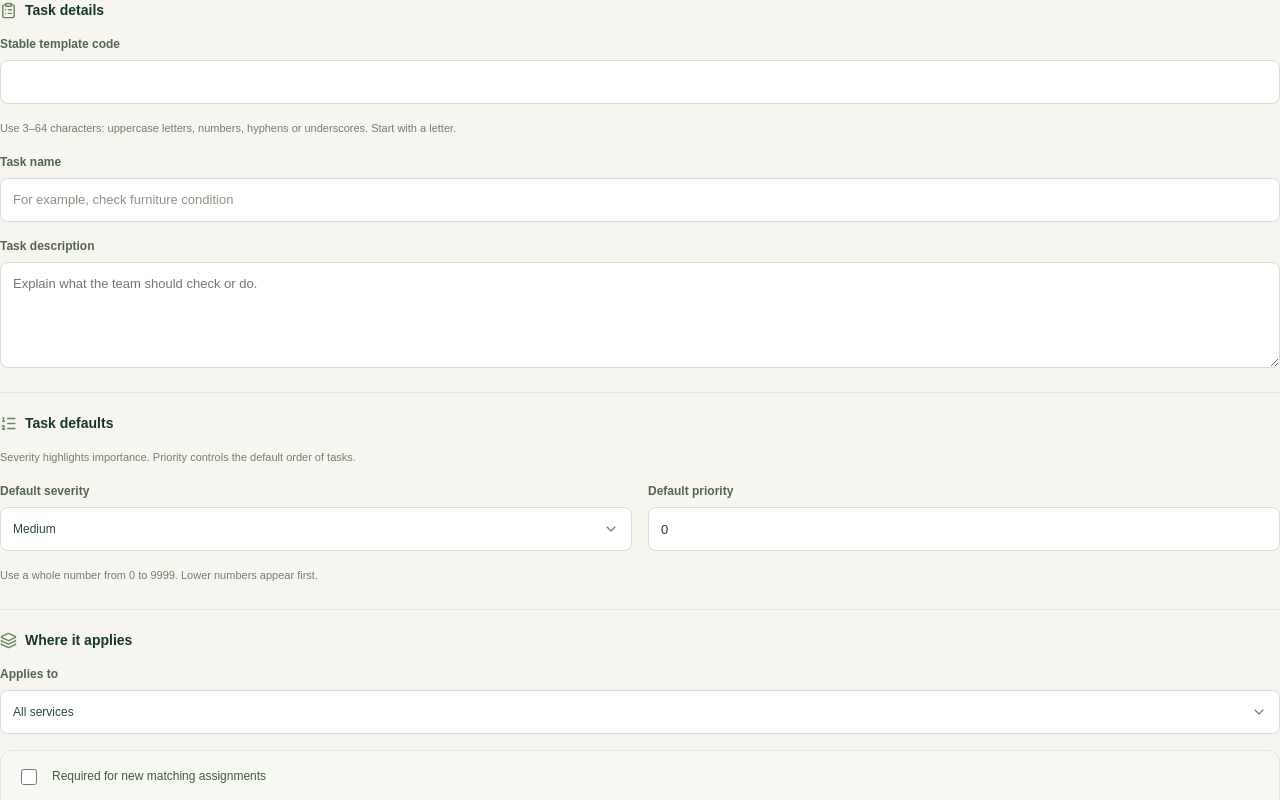
Task template form › creates the same public payload, confirms the canonical record and resets the creation form
Type "STAIR_CHECK" into the field labelled "Stable template code" at (640, 82), box [0, 60, 1279, 104]
Type "  Check stairs  " into the field labelled "Task name" at (640, 200), box [0, 178, 1279, 222]
Type "  Inspect the access route  " into the text box labelled "Task description" at (640, 315), box [0, 262, 1279, 368]
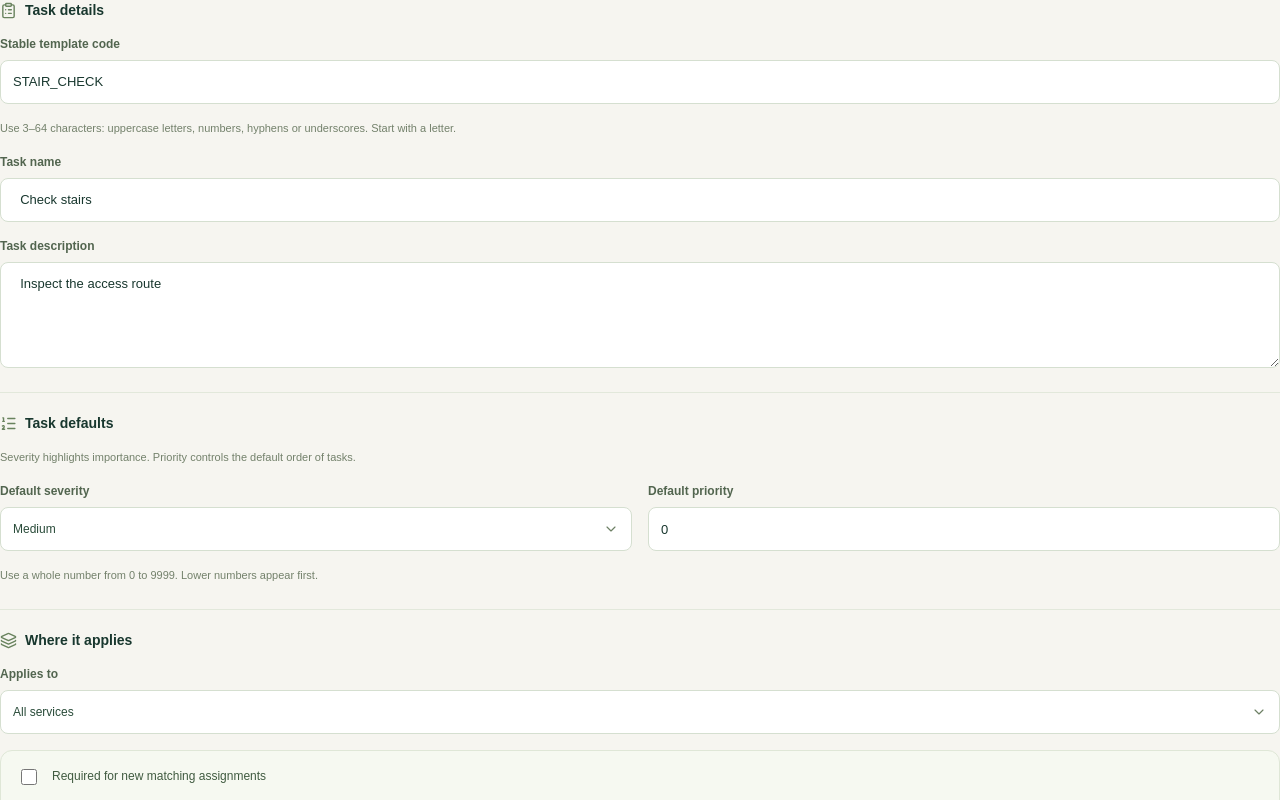
Select "Delivery only" in the dropdown labelled "Applies to" at (640, 712), box [0, 690, 1279, 734]
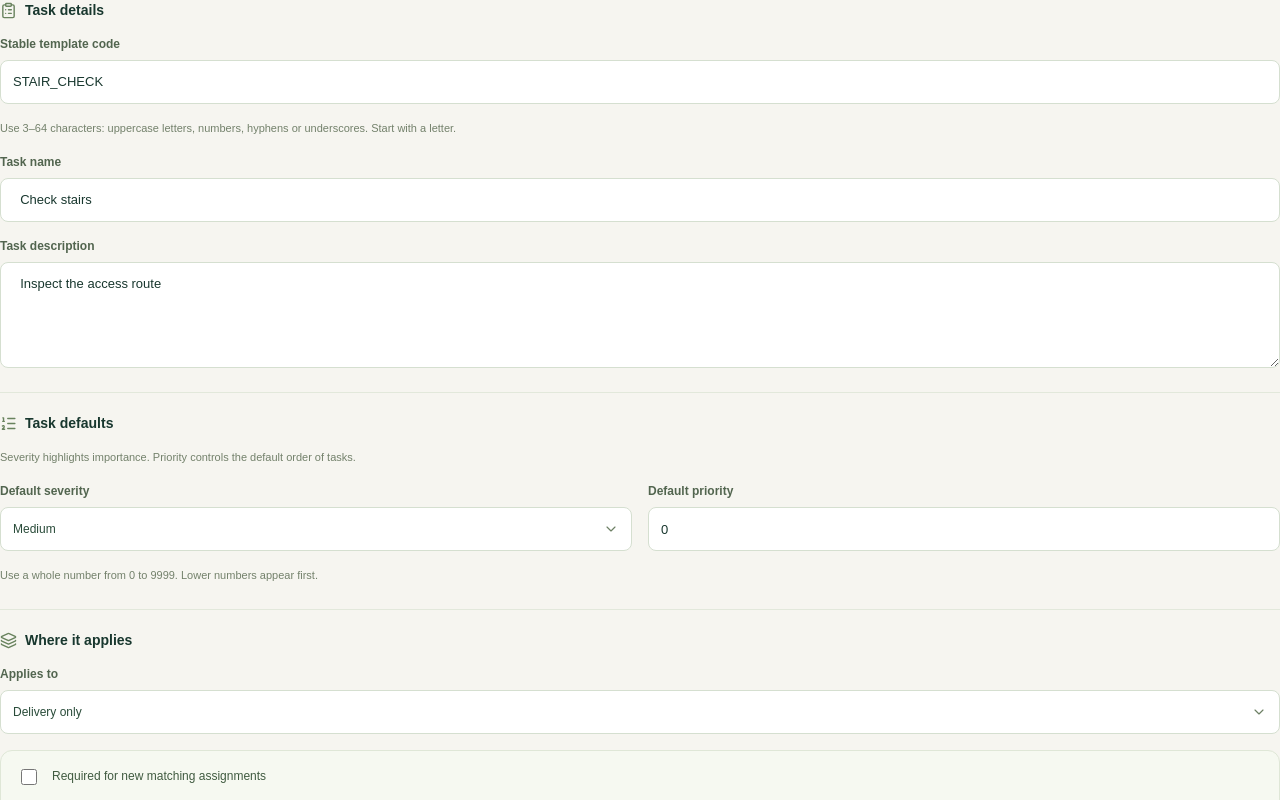
Select "High" in the dropdown labelled "Default severity" at (316, 529), box [0, 507, 632, 551]
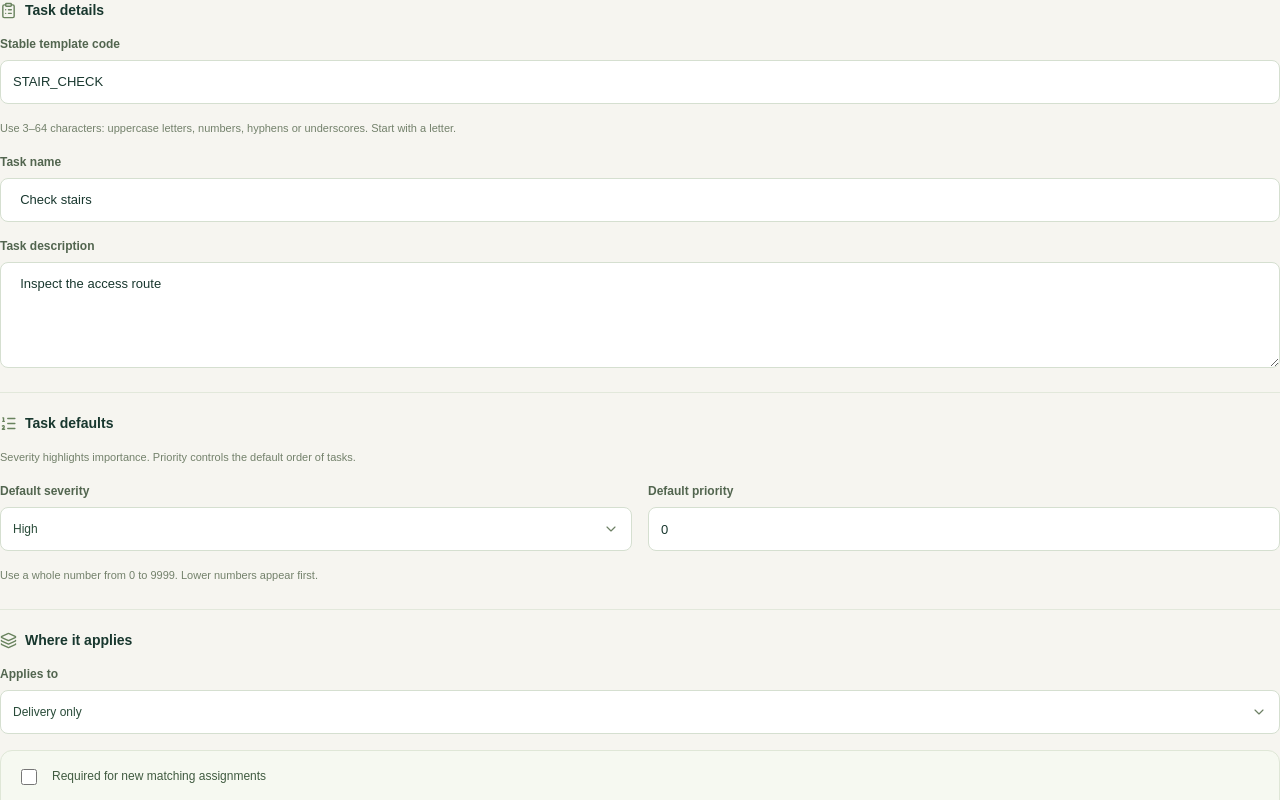
Replace the text in the number field labelled "Default priority" with "7" at (964, 529), box [648, 507, 1279, 551]
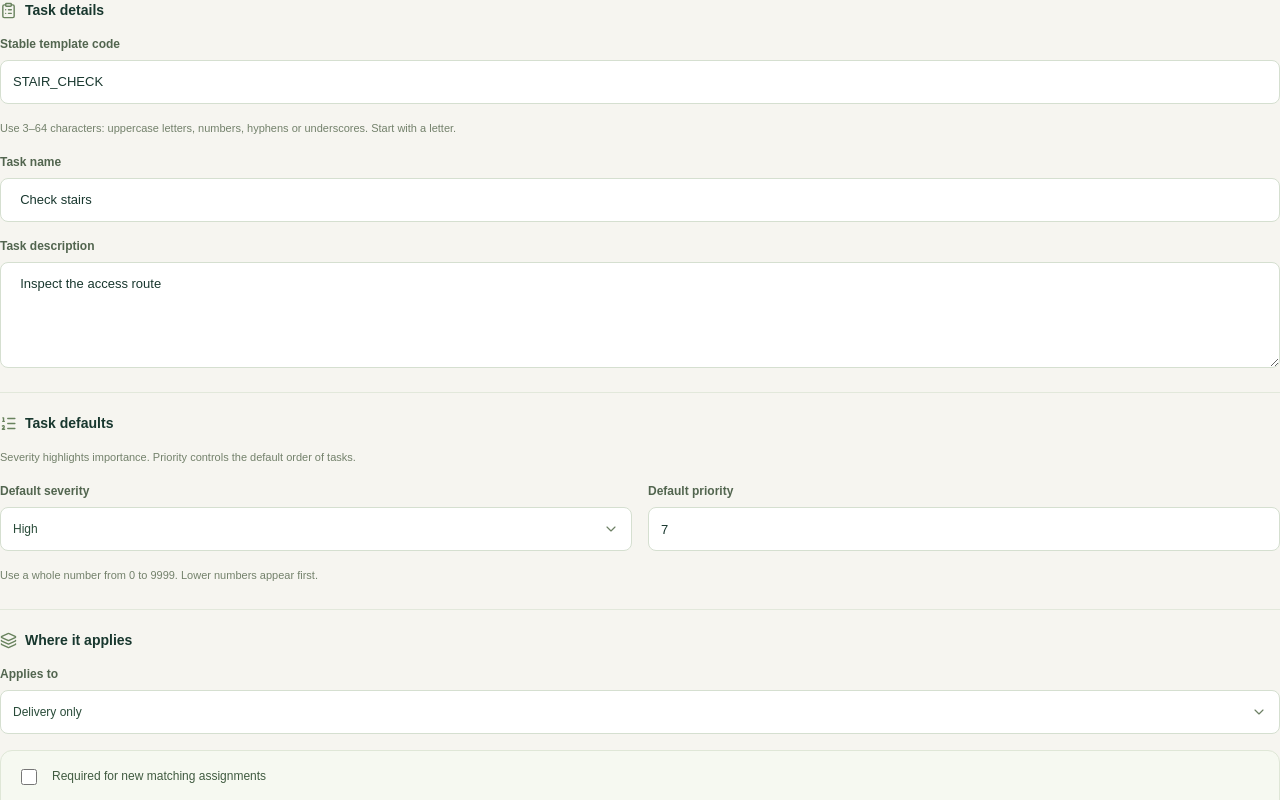
Click the checkbox labelled "Required for new matching assignments" at (29, 777), box [21, 769, 37, 785]
(page scrolled)
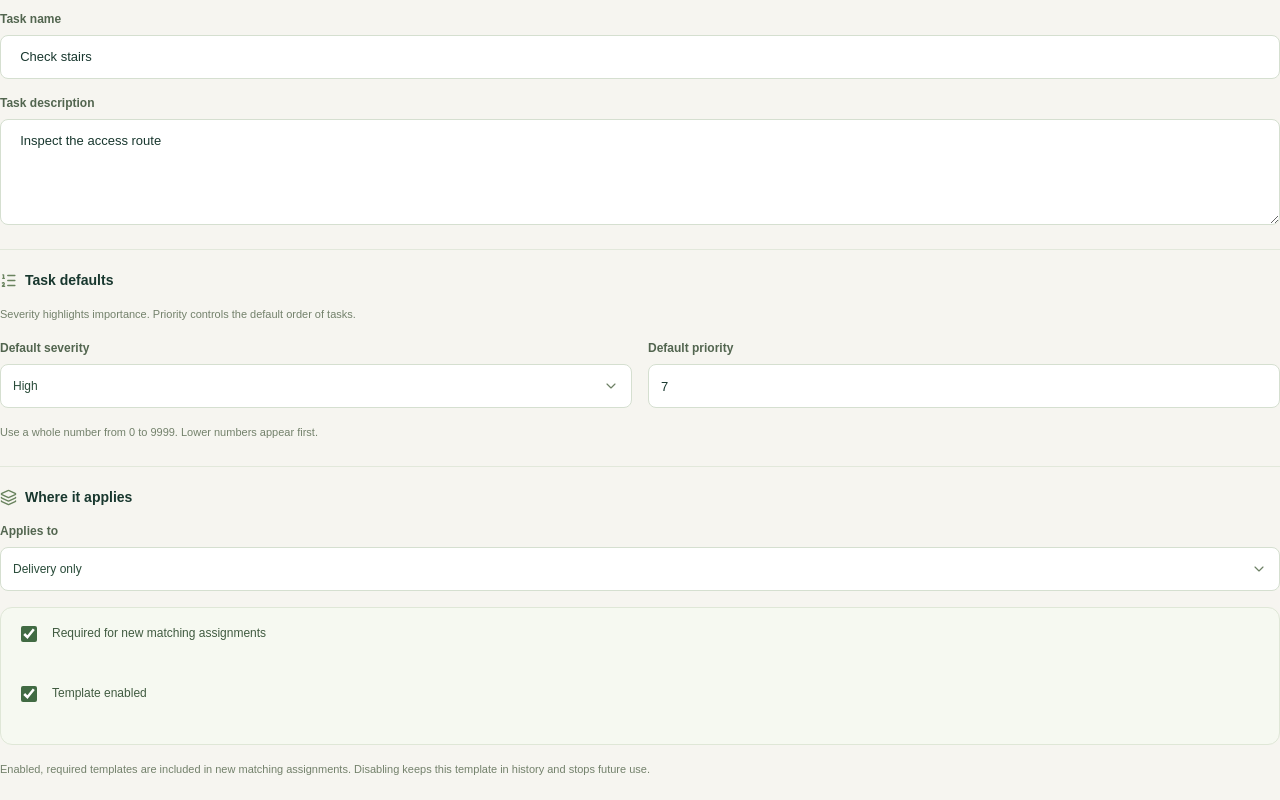
Submit the form named "Create task template"
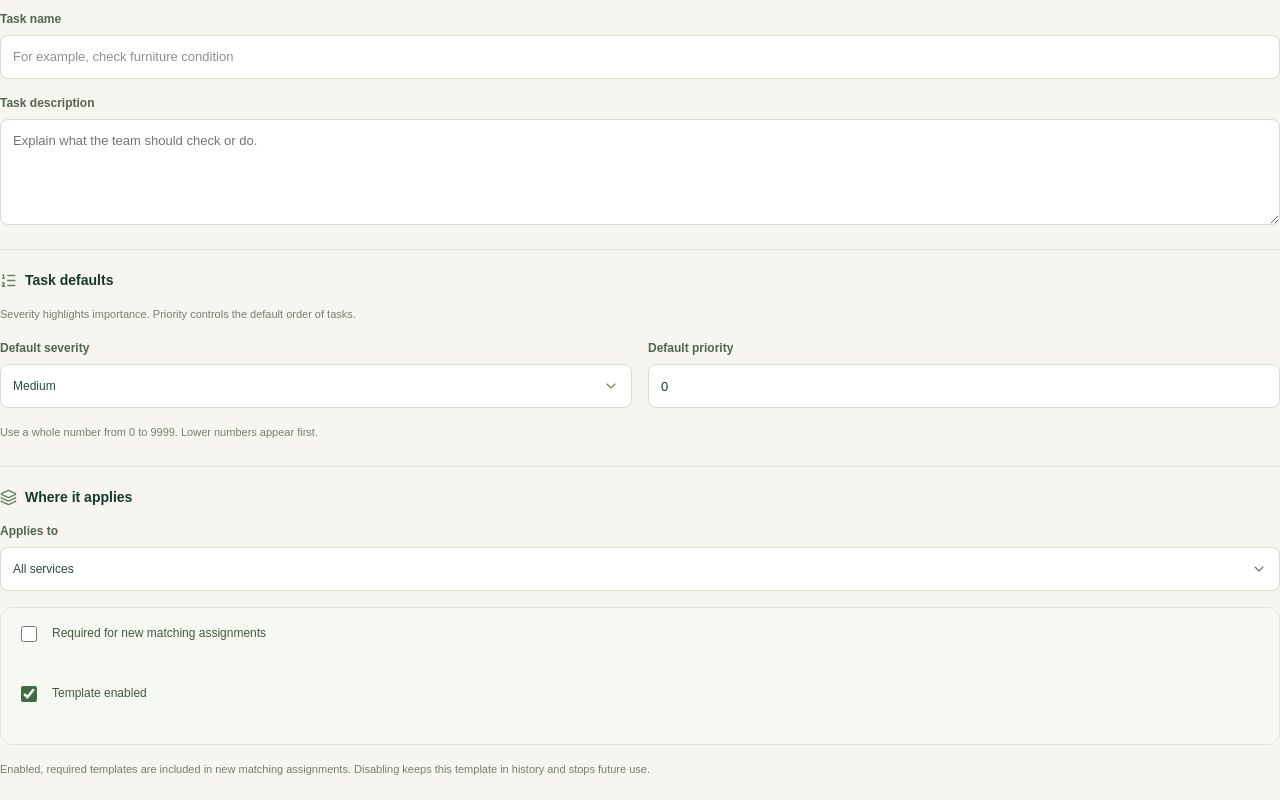
Expected: the checkbox labelled "Template enabled" is checked, [21, 686, 37, 702]
Expected: the checkbox labelled "Required for new matching assignments" is not checked, [21, 626, 37, 642]
Expected: the field labelled "Task name" is empty, [0, 35, 1279, 79]
